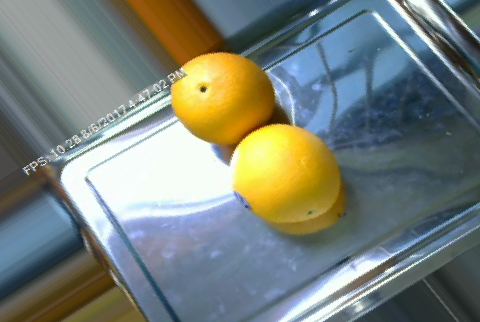Orange: (228, 123, 339, 222), (170, 51, 274, 144)
